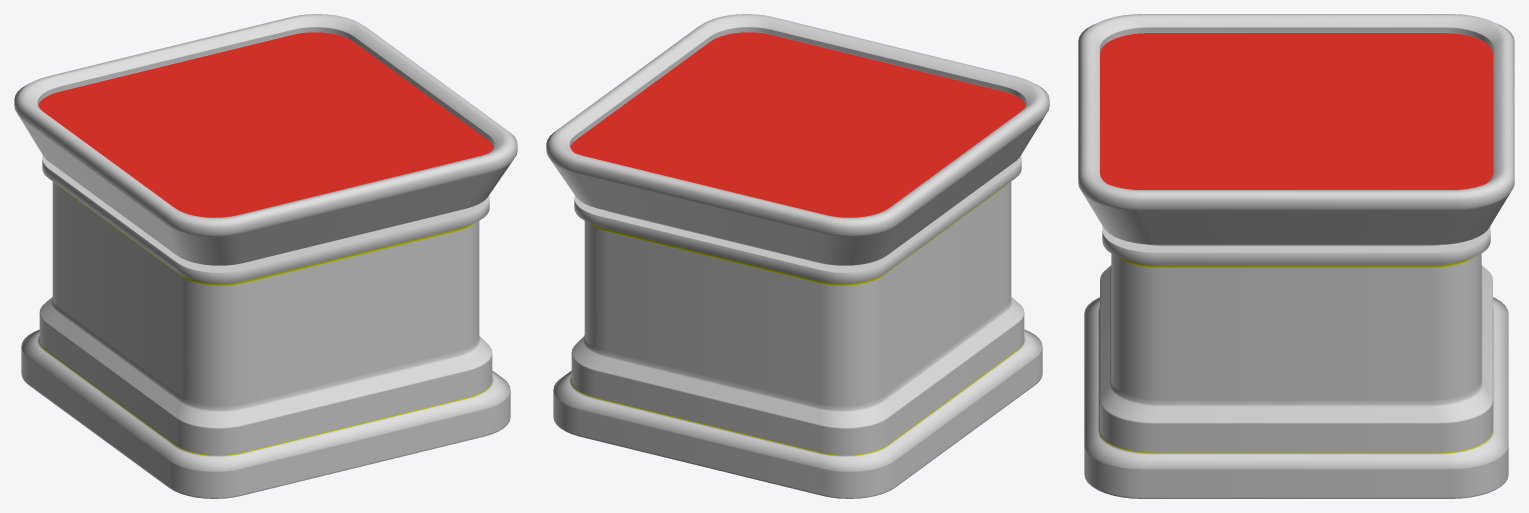
Rendered from SK_Platform.fbx.
3 renders of one model, left to right at view 1: azimuth 30°, elevation 25°; view 2: azimuth 150°, elevation 25°; view 3: azimuth 270°, elevation 25°, orthographic. The views are drawn at different scales.
Parts seen in each view (by area): view 1: Cube; view 2: Cube; view 3: Cube.
Boxes of the visible parts, bbox=[...] form: Cube: bbox=[14, 14, 517, 498]; Cube: bbox=[546, 14, 1049, 498]; Cube: bbox=[1078, 14, 1514, 498].
Bounding box in the file's own units: 40.18 × 31.03 × 40.18.
